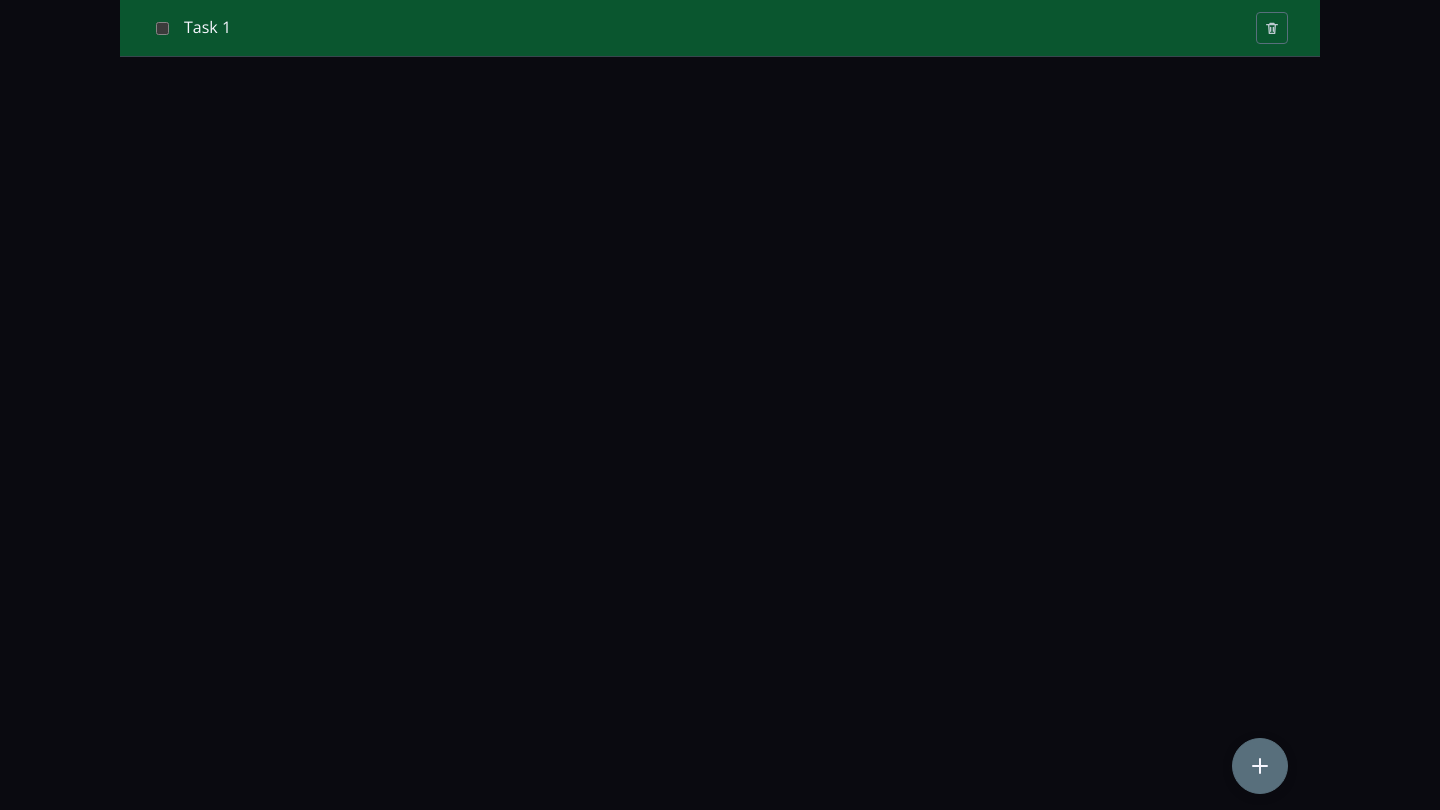
Test case: deleting from the list › keeps the task and says so when the delete genuinely fails
The image size is (1440, 810).
Click the button named "Delete Task 1" at (1272, 28), box [1256,12,1288,44]
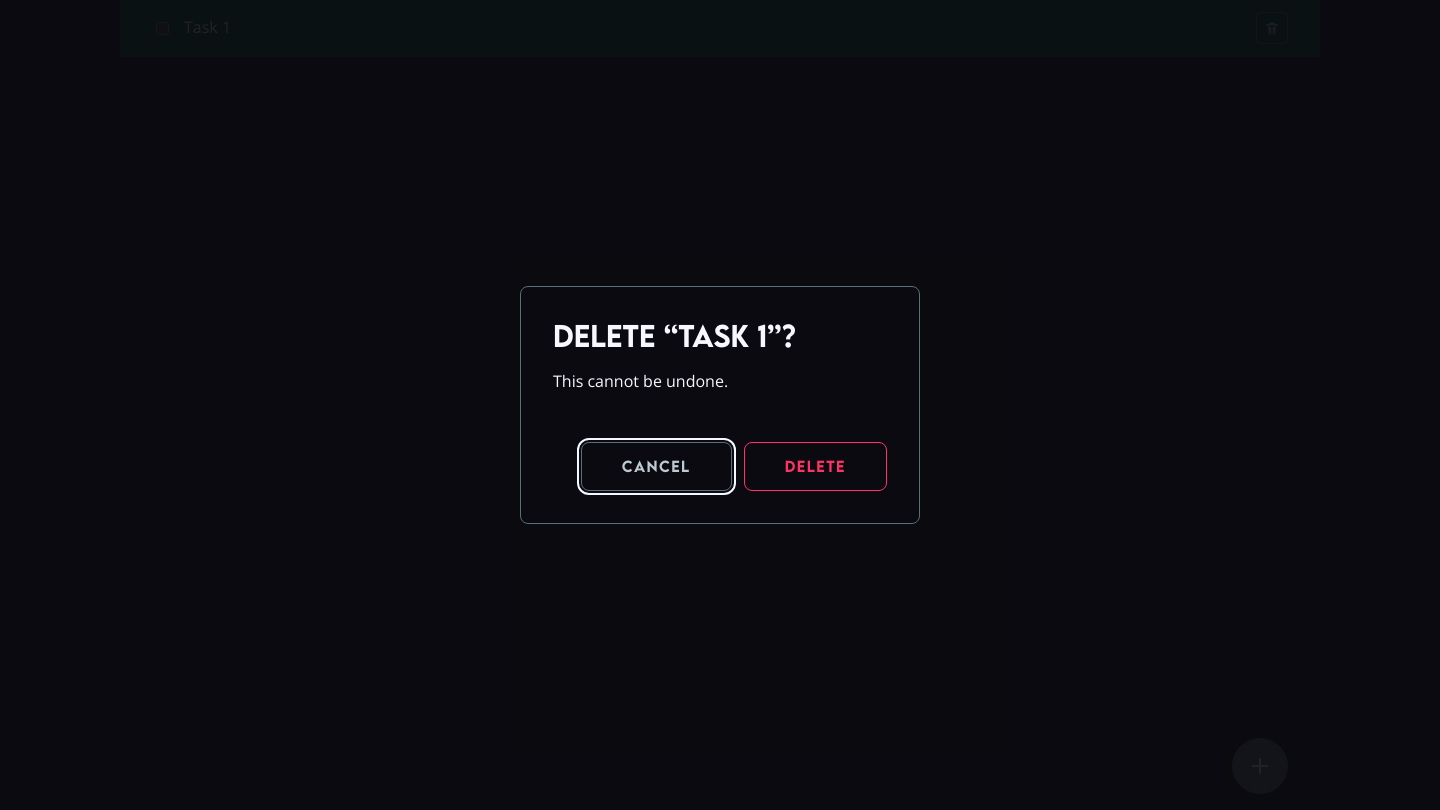
Click the button "Delete" at (815, 467), box [744,442,887,491]
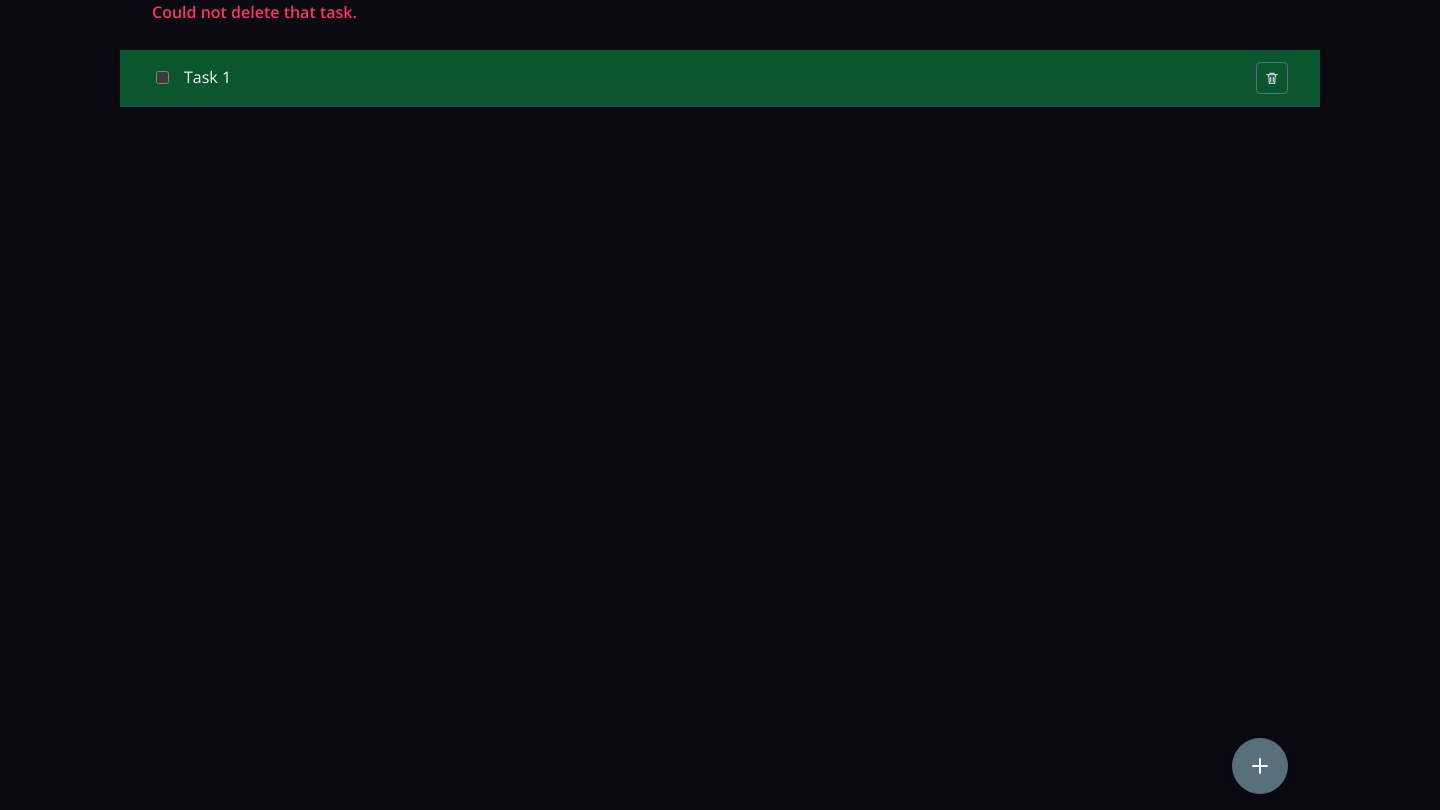
expect the number of list items with class "list__row" is 1: met, box [120,50,1320,107]
expect the text "Could not delete that task." is shown: met, box [152,1,357,23]
